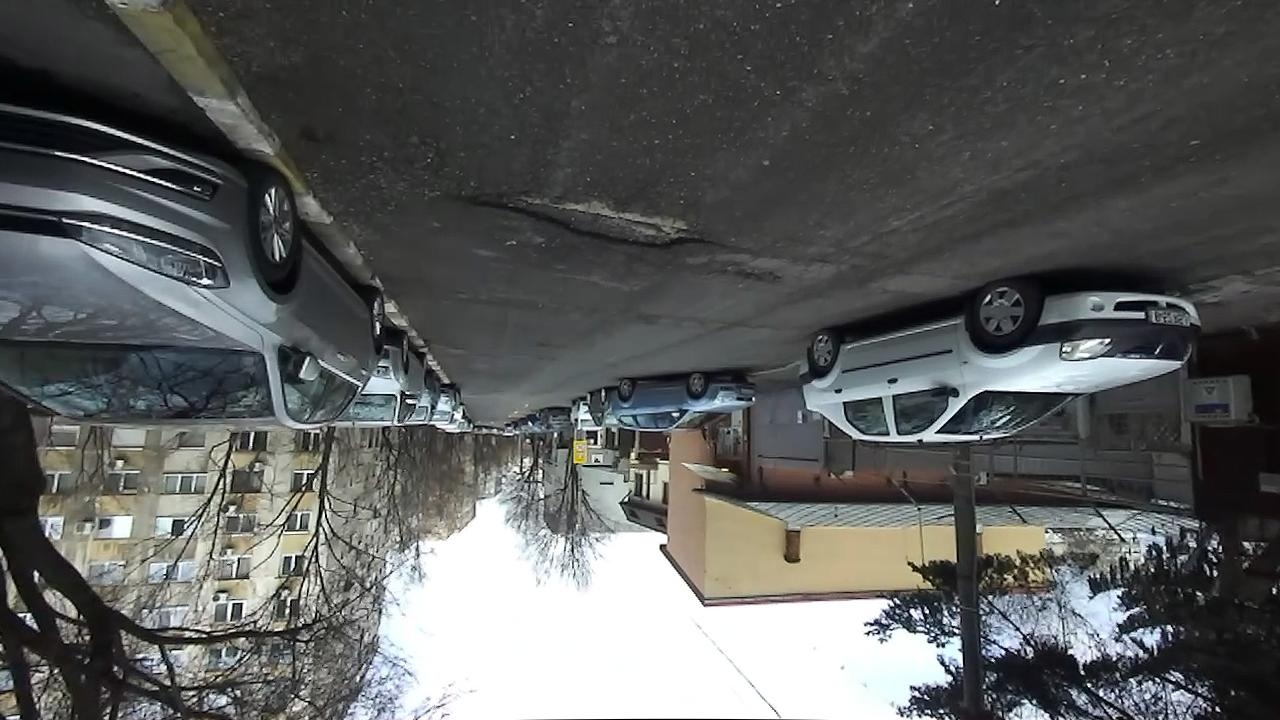pothole: (458, 192, 738, 252), (709, 264, 789, 289)
